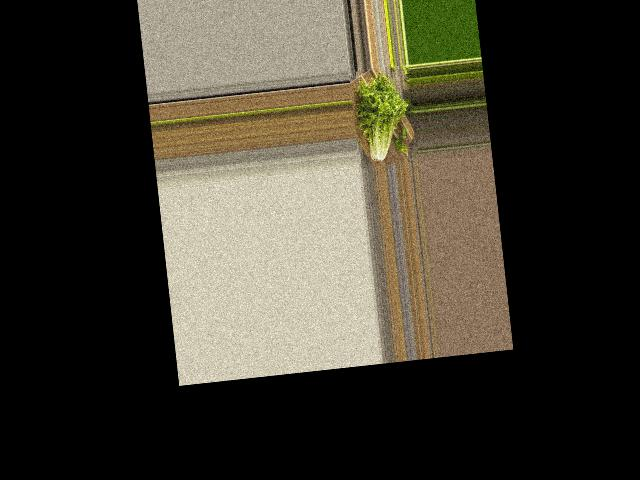lettuce: (352, 73, 413, 167)
